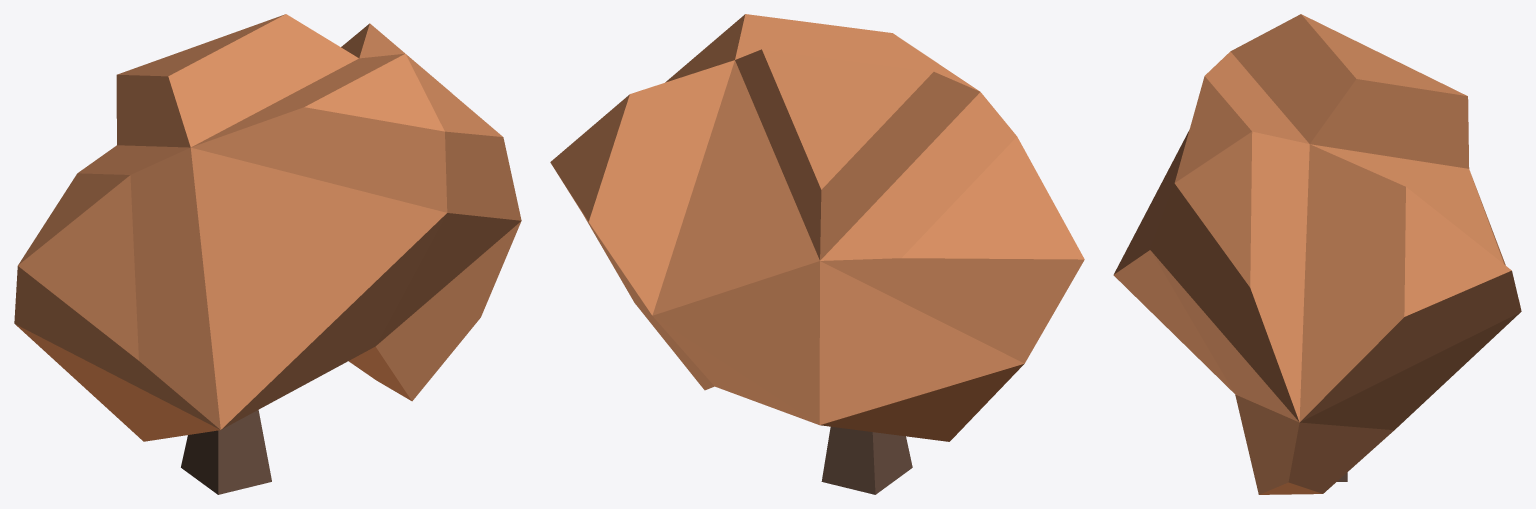
The model's file is BushAutumn4_Alt1.fbx.
3 renders of one model, left to right at view 1: azimuth 30°, elevation 25°; view 2: azimuth 150°, elevation 25°; view 3: azimuth 270°, elevation 25°, orthographic.
Parts seen in each view (by area): view 1: BushAutumn4_Alt1; view 2: BushAutumn4_Alt1; view 3: BushAutumn4_Alt1.
Part boxes in pixels (left/top/right/bottom): BushAutumn4_Alt1: left=14, top=14, right=521, bottom=494; BushAutumn4_Alt1: left=550, top=14, right=1084, bottom=494; BushAutumn4_Alt1: left=1113, top=14, right=1521, bottom=494.
Size of the model in its own units: 0.4664 by 0.3748 by 0.3221.
